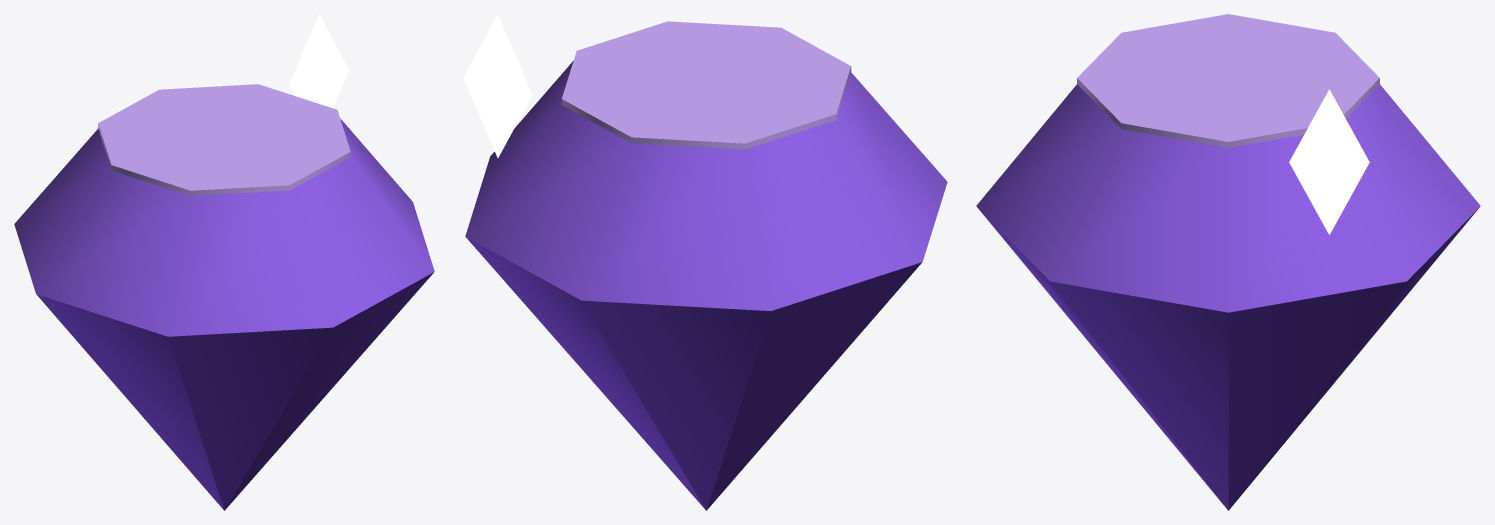
File: Gem3D.glb
The picture shows the model from 3 angles, left to right: view 1: azimuth 30°, elevation 25°; view 2: azimuth 150°, elevation 25°; view 3: azimuth 270°, elevation 25°; orthographic projection. The views are drawn at different scales.
Visible parts, largest first — view 1: Body, Glow; view 2: Body, Glow; view 3: Body, Glow.
Boxes of the visible parts, x1,y1,x2,y2 form: Body: (14, 84, 434, 510); Glow: (289, 14, 349, 108); Body: (465, 21, 947, 510); Glow: (463, 14, 532, 158); Body: (976, 14, 1480, 510); Glow: (1289, 89, 1369, 234).
Size of the model in its own units: 1.5 by 1.64 by 1.5.
2 materials, 1 textured.
